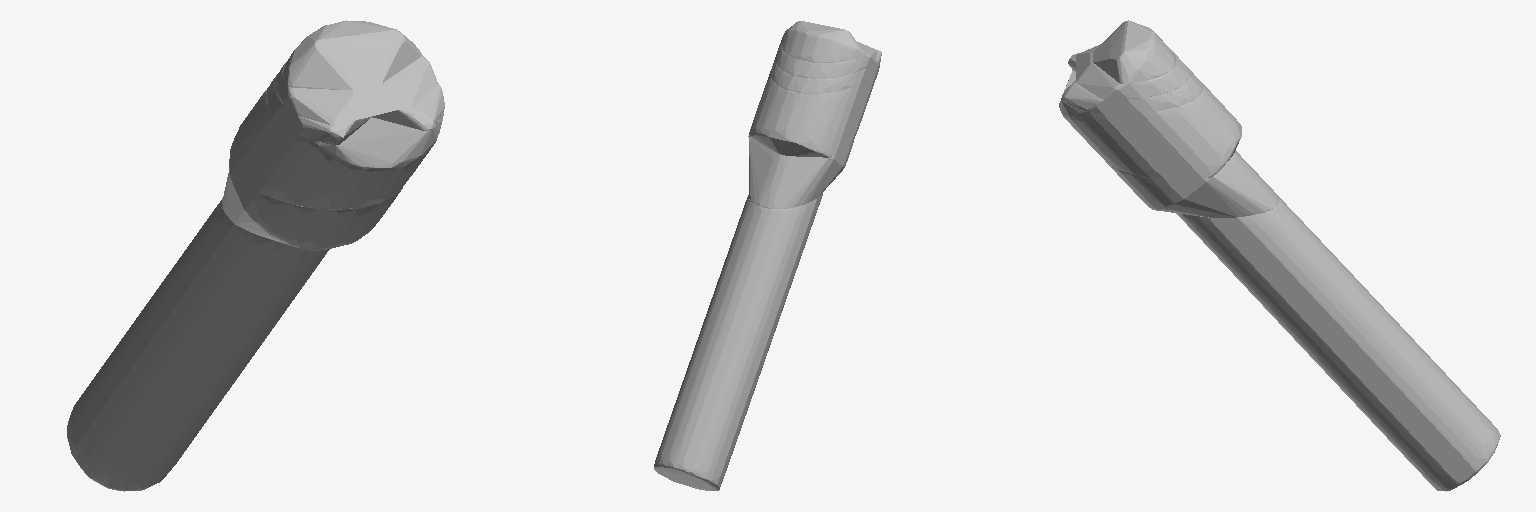
robot.urdf — root:
<robot name="root">
  <link name="link_coacd_convex_piece_0">
    <inertial>
      <origin xyz="0 0 0" rpy="0 0 0"/>
      <inertia ixx="1.58E-02" ixy="2.25E-04" ixz="1.83E-04" iyy="7.02E-03" iyz="-7.45E-03" izz="9.43E-03"/>
    </inertial>
    <visual>
      <origin xyz="0 0 0" rpy="0 0 0"/>
      <geometry>
        <mesh filename="coacd_convex_piece_0.obj" scale="1.0000E+00 1.0000E+00 1.0000E+00"/>
      </geometry>
      <material name="">
        <color rgba="7.50E-01 7.50E-01 7.50E-01 1"/>
      </material>
    </visual>
    <collision>
      <origin xyz="0 0 0" rpy="0 0 0"/>
      <geometry>
        <mesh filename="coacd_convex_piece_0.obj" scale="1.0000E+00 1.0000E+00 1.0000E+00"/>
      </geometry>
    </collision>
  </link>
  <link name="link_coacd_convex_piece_1">
    <inertial>
      <origin xyz="0 0 0" rpy="0 0 0"/>
      <inertia ixx="3.44E-03" ixy="-3.74E-06" ixz="-1.61E-06" iyy="1.96E-03" iyz="-1.61E-03" izz="1.80E-03"/>
    </inertial>
    <visual>
      <origin xyz="0 0 0" rpy="0 0 0"/>
      <geometry>
        <mesh filename="coacd_convex_piece_1.obj" scale="1.0000E+00 1.0000E+00 1.0000E+00"/>
      </geometry>
      <material name="">
        <color rgba="7.50E-01 7.50E-01 7.50E-01 1"/>
      </material>
    </visual>
    <collision>
      <origin xyz="0 0 0" rpy="0 0 0"/>
      <geometry>
        <mesh filename="coacd_convex_piece_1.obj" scale="1.0000E+00 1.0000E+00 1.0000E+00"/>
      </geometry>
    </collision>
  </link>
  <joint name="link_coacd_convex_piece_1_joint" type="fixed">
    <origin xyz="0 0 0" rpy="0 0 0"/>
    <parent link="link_coacd_convex_piece_0"/>
    <child link="link_coacd_convex_piece_1"/>
  </joint>
  <link name="link_coacd_convex_piece_2">
    <inertial>
      <origin xyz="0 0 0" rpy="0 0 0"/>
      <inertia ixx="1.46E-02" ixy="1.99E-05" ixz="1.73E-05" iyy="6.62E-03" iyz="-6.91E-03" izz="8.67E-03"/>
    </inertial>
    <visual>
      <origin xyz="0 0 0" rpy="0 0 0"/>
      <geometry>
        <mesh filename="coacd_convex_piece_2.obj" scale="1.0000E+00 1.0000E+00 1.0000E+00"/>
      </geometry>
      <material name="">
        <color rgba="7.50E-01 7.50E-01 7.50E-01 1"/>
      </material>
    </visual>
    <collision>
      <origin xyz="0 0 0" rpy="0 0 0"/>
      <geometry>
        <mesh filename="coacd_convex_piece_2.obj" scale="1.0000E+00 1.0000E+00 1.0000E+00"/>
      </geometry>
    </collision>
  </link>
  <joint name="link_coacd_convex_piece_2_joint" type="fixed">
    <origin xyz="0 0 0" rpy="0 0 0"/>
    <parent link="link_coacd_convex_piece_1"/>
    <child link="link_coacd_convex_piece_2"/>
  </joint>
  <link name="link_coacd_convex_piece_3">
    <inertial>
      <origin xyz="0 0 0" rpy="0 0 0"/>
      <inertia ixx="3.08E-03" ixy="-8.04E-06" ixz="-7.38E-06" iyy="1.07E-03" iyz="-1.43E-03" izz="2.09E-03"/>
    </inertial>
    <visual>
      <origin xyz="0 0 0" rpy="0 0 0"/>
      <geometry>
        <mesh filename="coacd_convex_piece_3.obj" scale="1.0000E+00 1.0000E+00 1.0000E+00"/>
      </geometry>
      <material name="">
        <color rgba="7.50E-01 7.50E-01 7.50E-01 1"/>
      </material>
    </visual>
    <collision>
      <origin xyz="0 0 0" rpy="0 0 0"/>
      <geometry>
        <mesh filename="coacd_convex_piece_3.obj" scale="1.0000E+00 1.0000E+00 1.0000E+00"/>
      </geometry>
    </collision>
  </link>
  <joint name="link_coacd_convex_piece_3_joint" type="fixed">
    <origin xyz="0 0 0" rpy="0 0 0"/>
    <parent link="link_coacd_convex_piece_2"/>
    <child link="link_coacd_convex_piece_3"/>
  </joint>
  <link name="link_coacd_convex_piece_4">
    <inertial>
      <origin xyz="0 0 0" rpy="0 0 0"/>
      <inertia ixx="2.77E-03" ixy="4.07E-07" ixz="5.64E-07" iyy="8.01E-04" iyz="-1.24E-03" izz="2.01E-03"/>
    </inertial>
    <visual>
      <origin xyz="0 0 0" rpy="0 0 0"/>
      <geometry>
        <mesh filename="coacd_convex_piece_4.obj" scale="1.0000E+00 1.0000E+00 1.0000E+00"/>
      </geometry>
      <material name="">
        <color rgba="7.50E-01 7.50E-01 7.50E-01 1"/>
      </material>
    </visual>
    <collision>
      <origin xyz="0 0 0" rpy="0 0 0"/>
      <geometry>
        <mesh filename="coacd_convex_piece_4.obj" scale="1.0000E+00 1.0000E+00 1.0000E+00"/>
      </geometry>
    </collision>
  </link>
  <joint name="link_coacd_convex_piece_4_joint" type="fixed">
    <origin xyz="0 0 0" rpy="0 0 0"/>
    <parent link="link_coacd_convex_piece_3"/>
    <child link="link_coacd_convex_piece_4"/>
  </joint>
  <link name="link_coacd_convex_piece_5">
    <inertial>
      <origin xyz="0 0 0" rpy="0 0 0"/>
      <inertia ixx="1.76E-03" ixy="1.64E-04" ixz="1.27E-04" iyy="6.88E-04" iyz="-8.31E-04" izz="1.13E-03"/>
    </inertial>
    <visual>
      <origin xyz="0 0 0" rpy="0 0 0"/>
      <geometry>
        <mesh filename="coacd_convex_piece_5.obj" scale="1.0000E+00 1.0000E+00 1.0000E+00"/>
      </geometry>
      <material name="">
        <color rgba="7.50E-01 7.50E-01 7.50E-01 1"/>
      </material>
    </visual>
    <collision>
      <origin xyz="0 0 0" rpy="0 0 0"/>
      <geometry>
        <mesh filename="coacd_convex_piece_5.obj" scale="1.0000E+00 1.0000E+00 1.0000E+00"/>
      </geometry>
    </collision>
  </link>
  <joint name="link_coacd_convex_piece_5_joint" type="fixed">
    <origin xyz="0 0 0" rpy="0 0 0"/>
    <parent link="link_coacd_convex_piece_4"/>
    <child link="link_coacd_convex_piece_5"/>
  </joint>
  <link name="link_coacd_convex_piece_6">
    <inertial>
      <origin xyz="0 0 0" rpy="0 0 0"/>
      <inertia ixx="1.81E-03" ixy="-1.61E-04" ixz="-1.24E-04" iyy="6.86E-04" iyz="-8.49E-04" izz="1.18E-03"/>
    </inertial>
    <visual>
      <origin xyz="0 0 0" rpy="0 0 0"/>
      <geometry>
        <mesh filename="coacd_convex_piece_6.obj" scale="1.0000E+00 1.0000E+00 1.0000E+00"/>
      </geometry>
      <material name="">
        <color rgba="7.50E-01 7.50E-01 7.50E-01 1"/>
      </material>
    </visual>
    <collision>
      <origin xyz="0 0 0" rpy="0 0 0"/>
      <geometry>
        <mesh filename="coacd_convex_piece_6.obj" scale="1.0000E+00 1.0000E+00 1.0000E+00"/>
      </geometry>
    </collision>
  </link>
  <joint name="link_coacd_convex_piece_6_joint" type="fixed">
    <origin xyz="0 0 0" rpy="0 0 0"/>
    <parent link="link_coacd_convex_piece_5"/>
    <child link="link_coacd_convex_piece_6"/>
  </joint>
</robot>

--- Facts derived from the render (not from the file) ---
The picture shows the robot from 3 angles, left to right: view 1: azimuth 30°, elevation 25°; view 2: azimuth 150°, elevation 25°; view 3: azimuth 270°, elevation 25°; orthographic projection.
Robot: root — 7 links, 6 joints (6 fixed); root link link_coacd_convex_piece_0; default pose: every joint at zero.
Links seen in each view (by area): view 1: link_coacd_convex_piece_0, link_coacd_convex_piece_2, link_coacd_convex_piece_4, link_coacd_convex_piece_1, link_coacd_convex_piece_3, link_coacd_convex_piece_6, link_coacd_convex_piece_5; view 2: link_coacd_convex_piece_0, link_coacd_convex_piece_2, link_coacd_convex_piece_1, link_coacd_convex_piece_4, link_coacd_convex_piece_3, link_coacd_convex_piece_6; view 3: link_coacd_convex_piece_0, link_coacd_convex_piece_2, link_coacd_convex_piece_1, link_coacd_convex_piece_4, link_coacd_convex_piece_3, link_coacd_convex_piece_5.
Boxes of the visible links, x1,y1,x2,y2 form: link_coacd_convex_piece_0: [67, 198, 329, 491]; link_coacd_convex_piece_2: [229, 87, 443, 209]; link_coacd_convex_piece_4: [283, 20, 421, 90]; link_coacd_convex_piece_1: [222, 168, 402, 250]; link_coacd_convex_piece_3: [274, 55, 437, 125]; link_coacd_convex_piece_6: [266, 74, 371, 144]; link_coacd_convex_piece_5: [372, 83, 444, 130]; link_coacd_convex_piece_0: [654, 193, 822, 490]; link_coacd_convex_piece_2: [748, 69, 878, 157]; link_coacd_convex_piece_1: [749, 138, 853, 208]; link_coacd_convex_piece_4: [781, 21, 865, 62]; link_coacd_convex_piece_3: [776, 40, 876, 78]; link_coacd_convex_piece_6: [791, 50, 881, 93]; link_coacd_convex_piece_0: [1176, 196, 1500, 491]; link_coacd_convex_piece_2: [1059, 70, 1241, 178]; link_coacd_convex_piece_1: [1105, 151, 1278, 217]; link_coacd_convex_piece_4: [1093, 20, 1175, 83]; link_coacd_convex_piece_3: [1076, 44, 1190, 99]; link_coacd_convex_piece_5: [1061, 77, 1202, 112].
Bounding box of the posed robot: 0.3964 × 1.45 × 1.65 m (x, y, z).
Meshes: 7 distinct files referenced, 7 mesh visuals loaded (7 OBJ).
